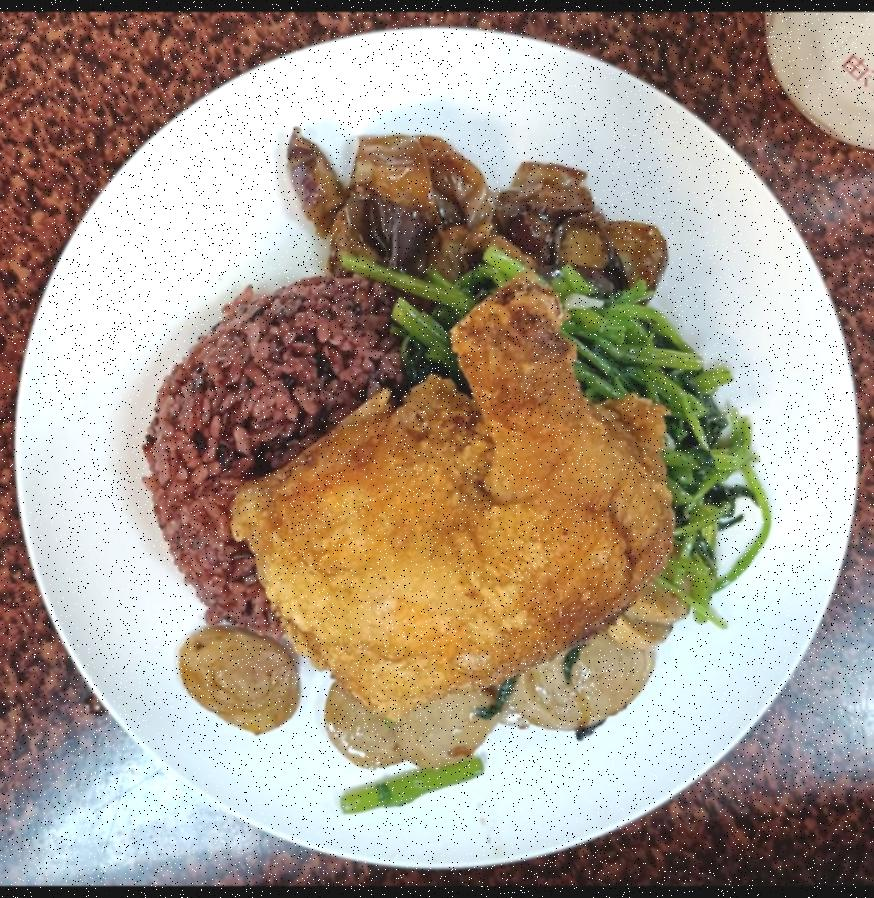big fried chicken leg: (230, 288, 684, 719)
plate: (6, 19, 870, 866)
purple rice: (148, 278, 434, 650)
side dish: (387, 258, 760, 622), (168, 587, 684, 762), (272, 114, 680, 294)
